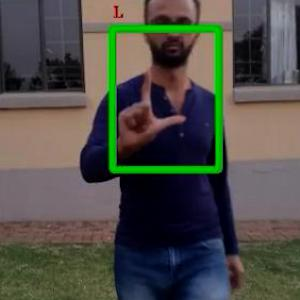land_hand: (111, 58, 194, 158)
